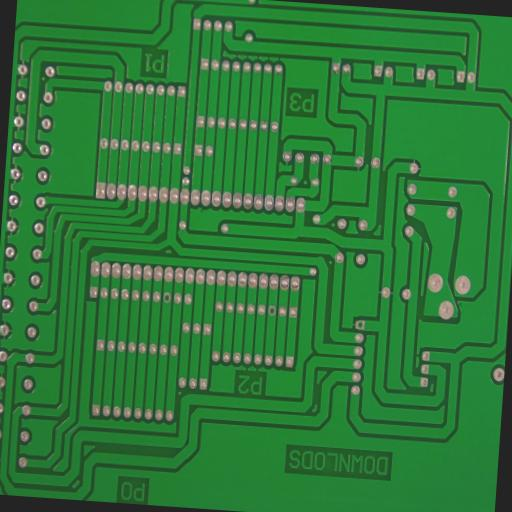missing_hole: (266, 302, 277, 321), (162, 291, 174, 308), (354, 318, 367, 333)
